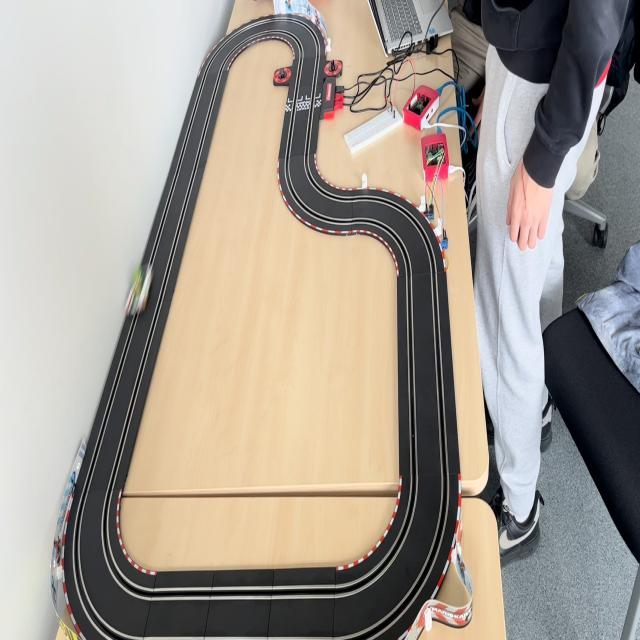yoshi: (125, 264, 156, 314)
